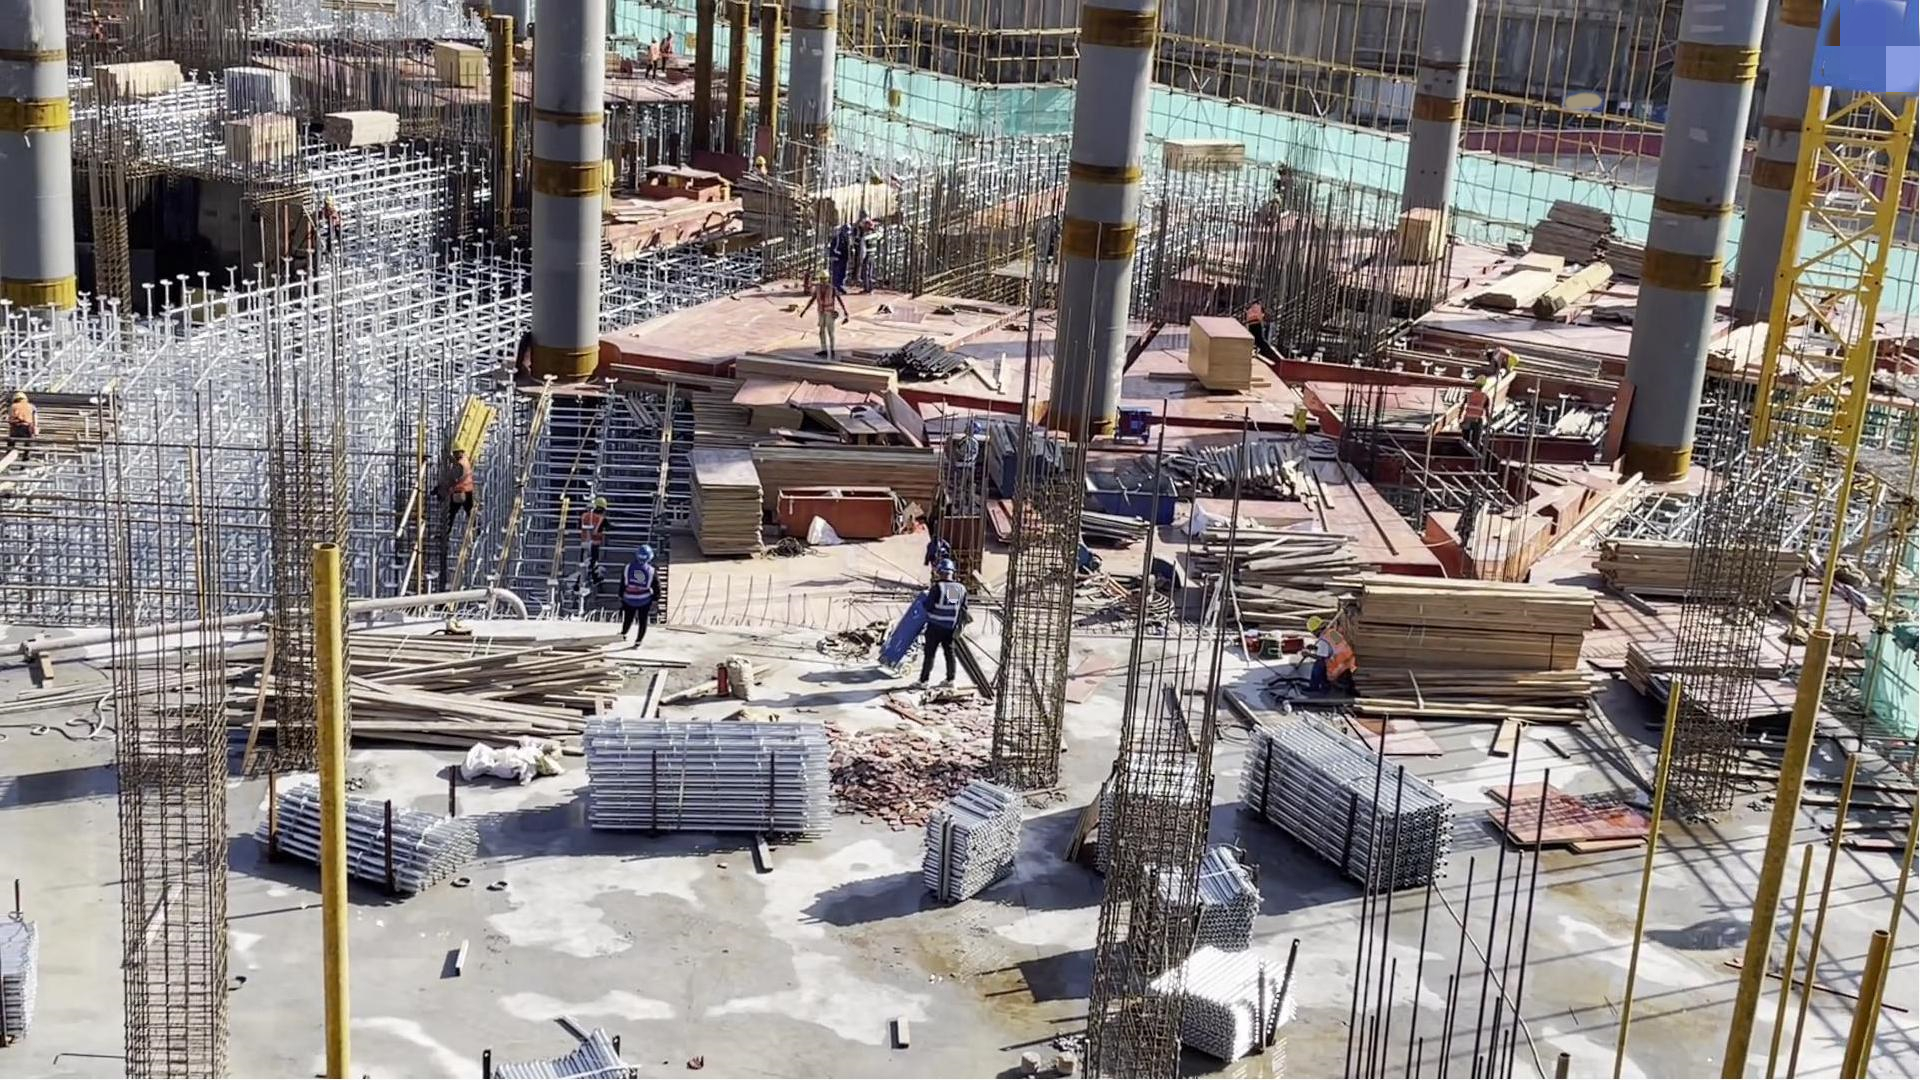helmet: (634, 545, 653, 564), (935, 559, 955, 573), (7, 391, 27, 403), (1305, 614, 1320, 628), (592, 497, 607, 510), (1473, 375, 1488, 385), (814, 270, 830, 280), (451, 442, 466, 451), (1508, 355, 1519, 366), (753, 156, 766, 165), (323, 195, 335, 203)
person: (921, 555, 964, 686), (801, 270, 849, 361), (1302, 613, 1358, 691), (617, 545, 661, 643), (833, 214, 874, 290), (440, 440, 475, 531), (2, 393, 39, 472), (579, 495, 610, 585), (1460, 376, 1488, 445), (1481, 343, 1525, 370), (1244, 301, 1267, 343), (325, 194, 339, 250), (658, 29, 674, 73), (646, 35, 658, 81)
vest: (931, 581, 965, 630), (1321, 630, 1353, 678), (621, 562, 654, 606), (581, 511, 605, 549), (450, 458, 471, 494), (814, 284, 835, 316), (9, 404, 33, 429), (1466, 393, 1485, 424), (1244, 302, 1264, 325), (1490, 345, 1508, 365)
